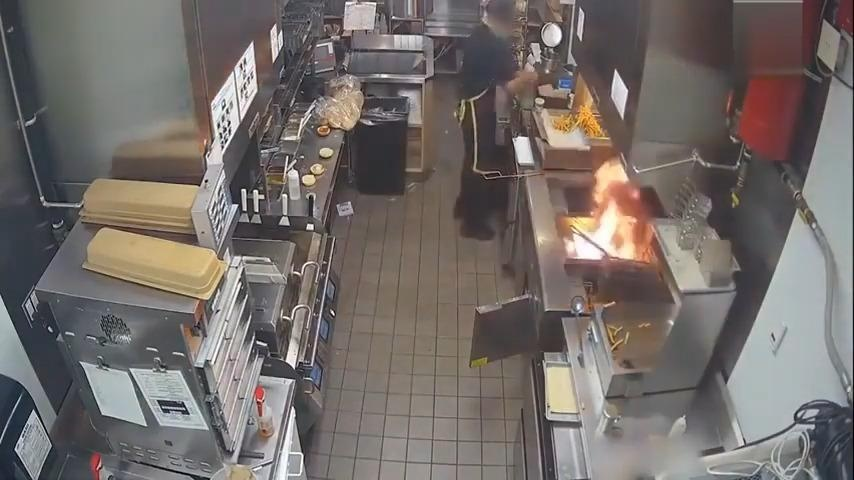fire: (558, 158, 662, 278)
